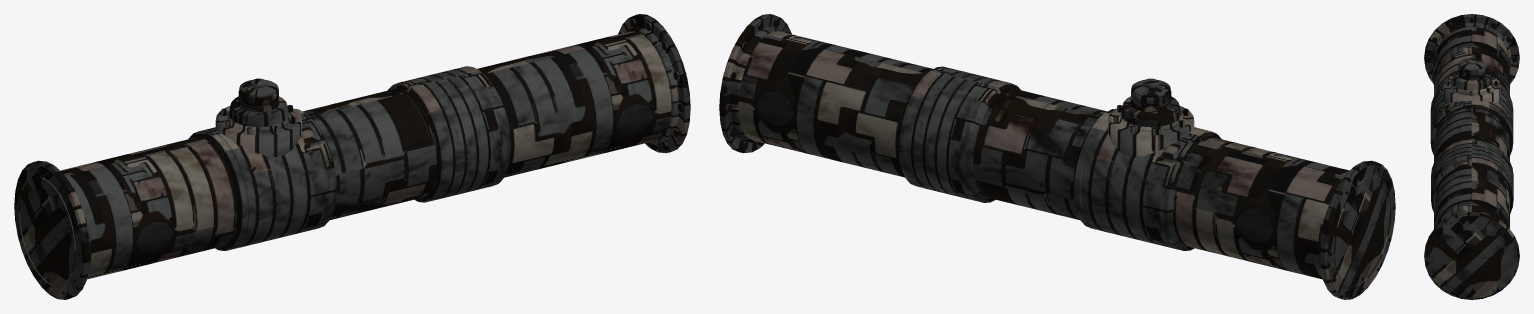
Rendered from single_pipe.dae.
3 renders of one model, left to right at view 1: azimuth 30°, elevation 25°; view 2: azimuth 150°, elevation 25°; view 3: azimuth 270°, elevation 25°, orthographic. The views are drawn at different scales.
Parts seen in each view (by area): view 1: Pipe Cylinder, Pipe Top Cover, Pipe Down Cover; view 2: Pipe Cylinder, Pipe Top Cover, Pipe Down Cover; view 3: Pipe Cylinder, Pipe Top Cover, Pipe Down Cover.
Part boxes in pixels (bbox=[...]): Pipe Cylinder: bbox=[14, 14, 690, 299]; Pipe Top Cover: bbox=[188, 78, 336, 250]; Pipe Down Cover: bbox=[388, 66, 511, 202]; Pipe Cylinder: bbox=[719, 14, 1395, 299]; Pipe Top Cover: bbox=[1073, 78, 1221, 250]; Pipe Down Cover: bbox=[898, 66, 1020, 202]; Pipe Cylinder: bbox=[1424, 14, 1519, 299]; Pipe Top Cover: bbox=[1430, 58, 1513, 155]; Pipe Down Cover: bbox=[1431, 139, 1513, 213].
Bounding box in the file's own units: 6.15 × 1.23 × 1.56.
